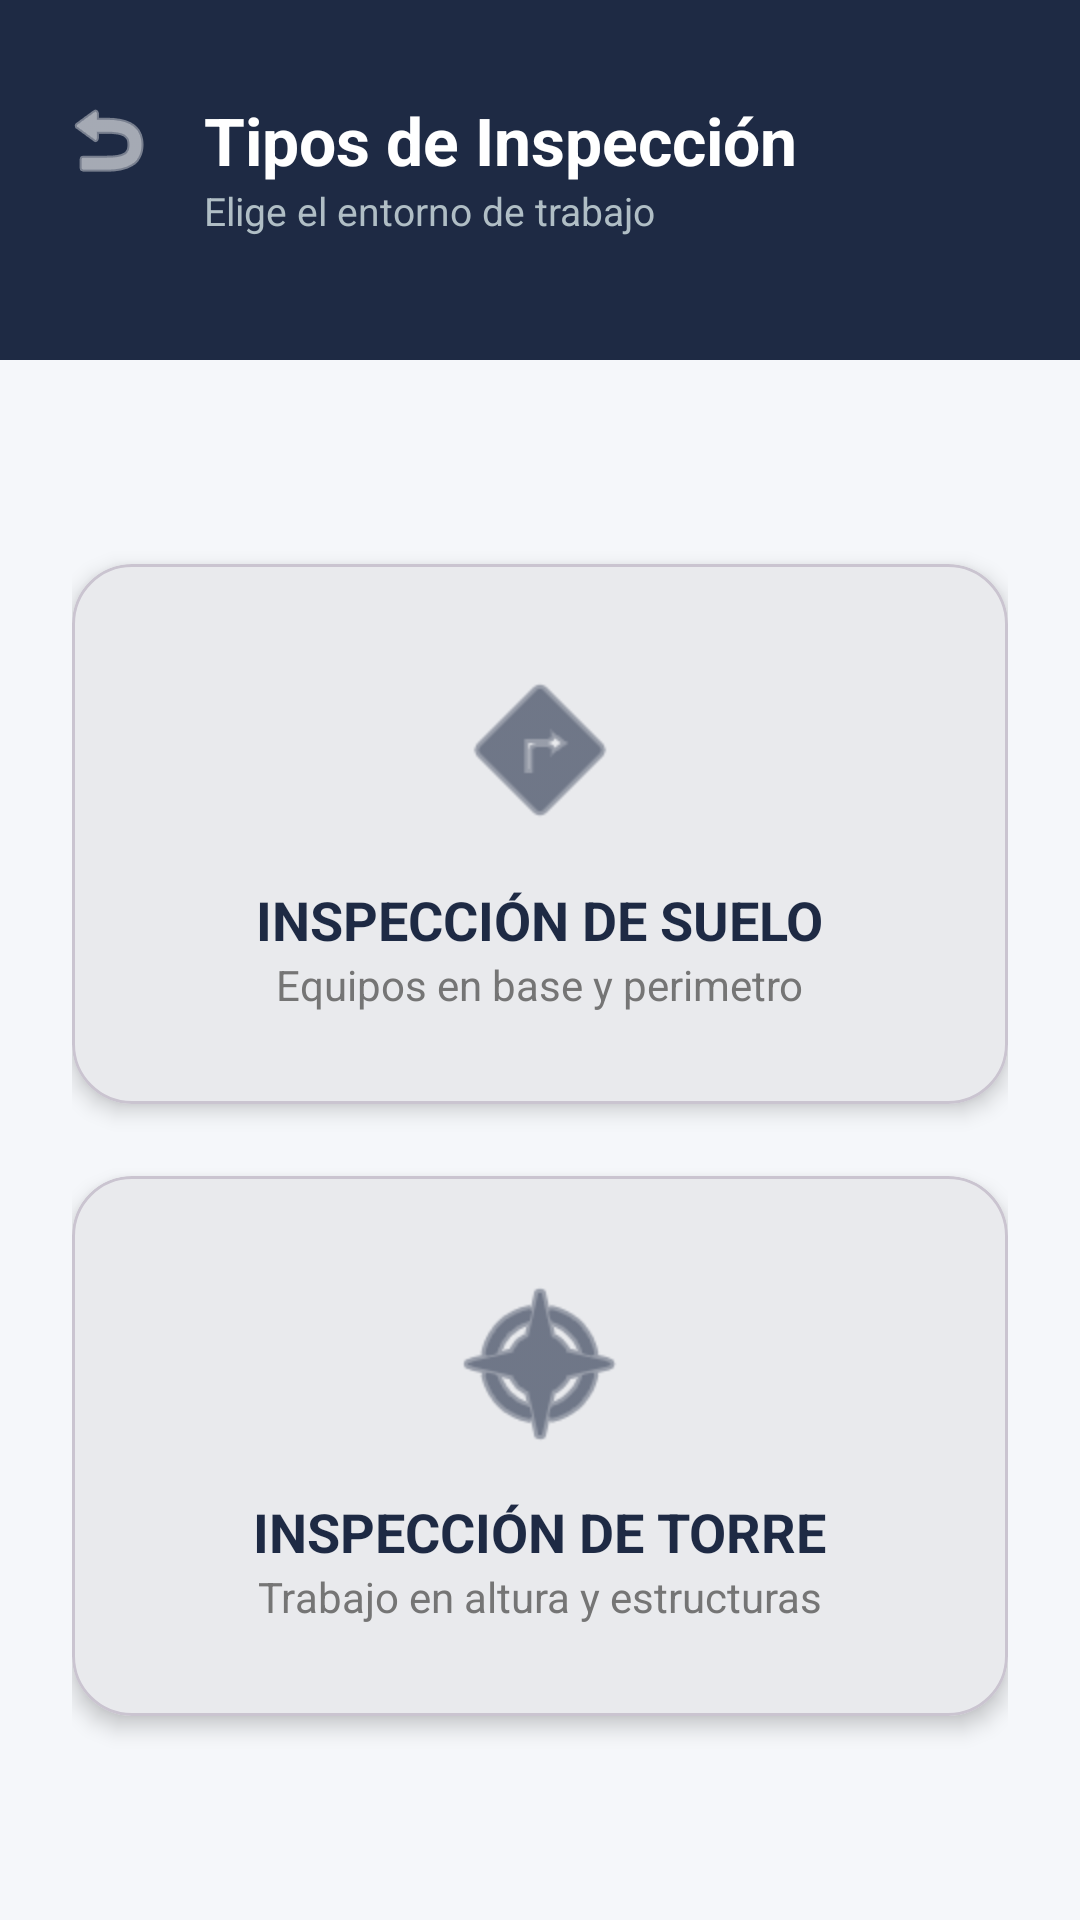

Icon bounding boxes for this 1080px×1920px phone screenshot, format (x1, y1, x2, y2):
compass: (464, 1288, 615, 1440)
directions: (474, 684, 606, 816)
revert: (75, 109, 144, 172)
